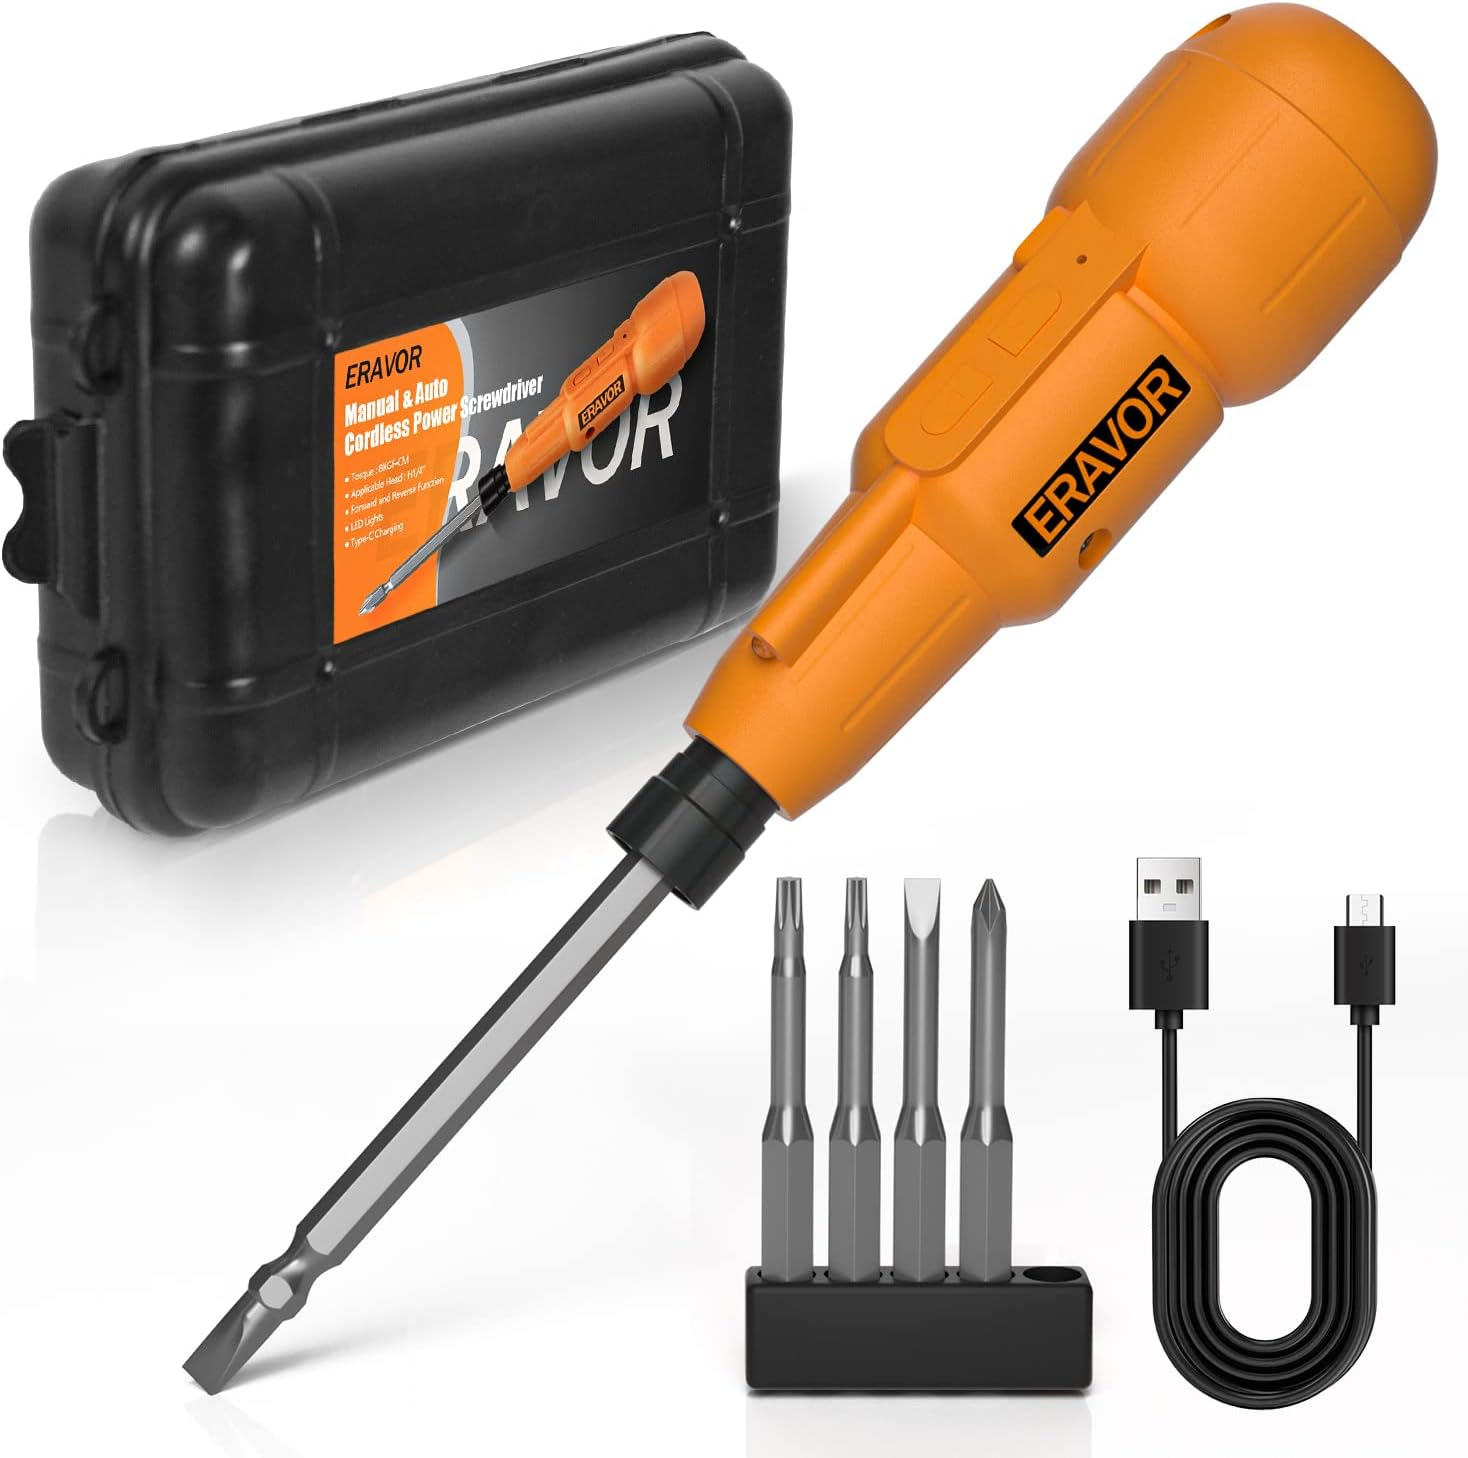screwdriver: (184, 1, 1439, 1405), (353, 258, 707, 620)
